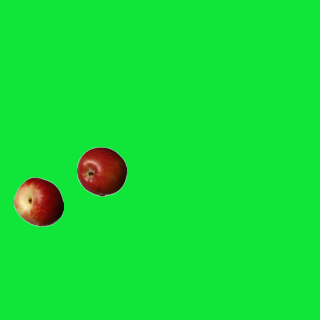Apple Braeburn: (76, 146, 126, 196)
Nectarine: (13, 176, 63, 226)
